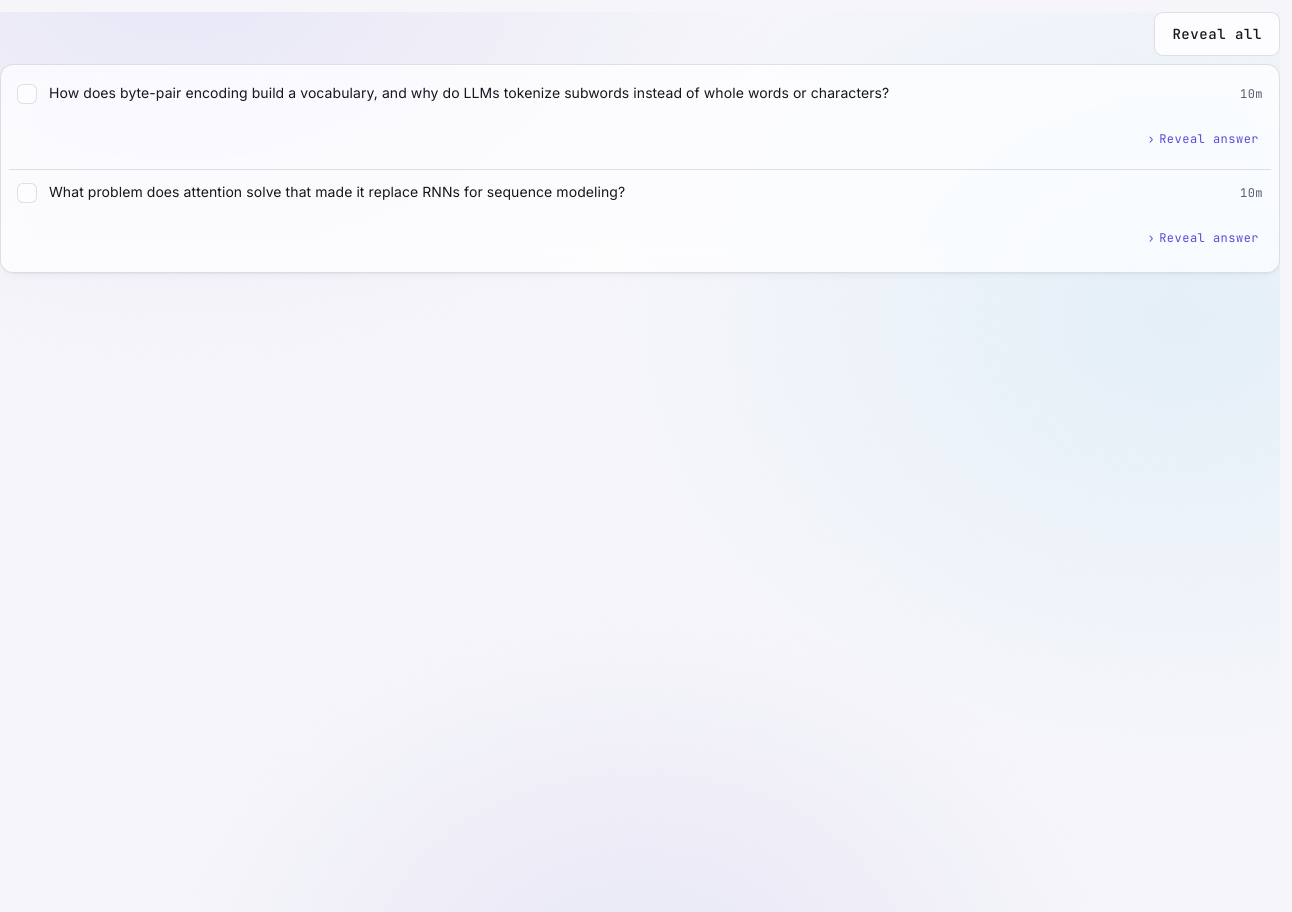
Test: TopicQuestions › gives the keyPoint a distinct label from the answer prose
This screenshot has width=1292, height=912.
Click the button "Reveal all". click: [1217, 34]
box: [1154,12,1280,56]
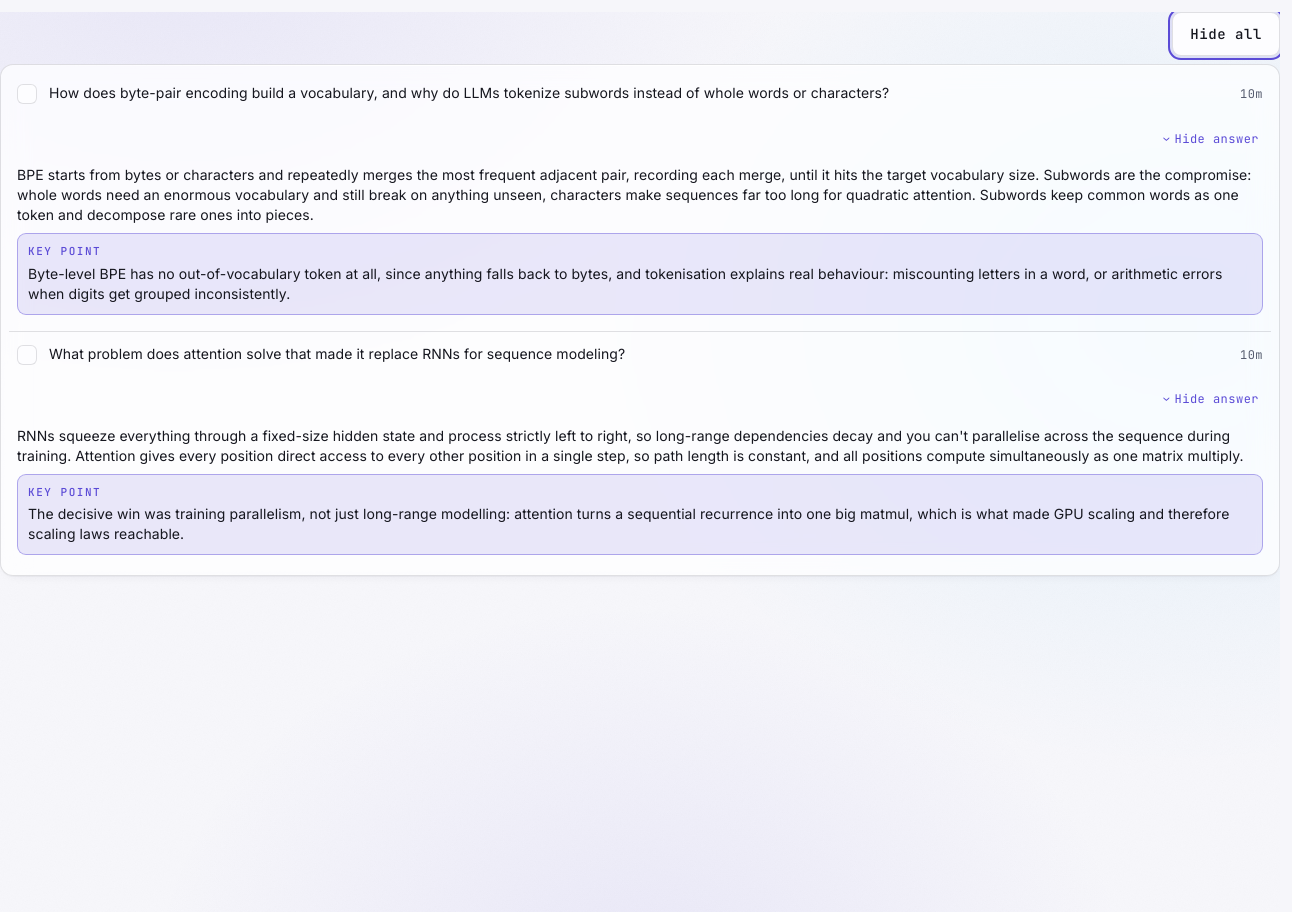
Check: the text "Key point" is shown 2 times, box [28,244,101,258]; [28,485,101,499]
